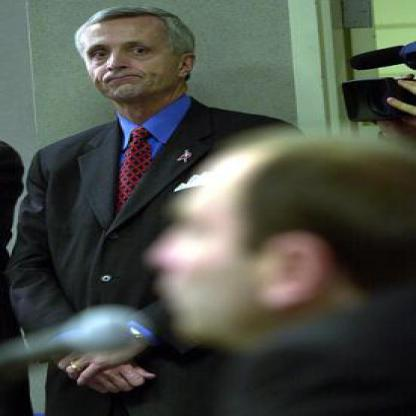face: (76, 10, 183, 103)
